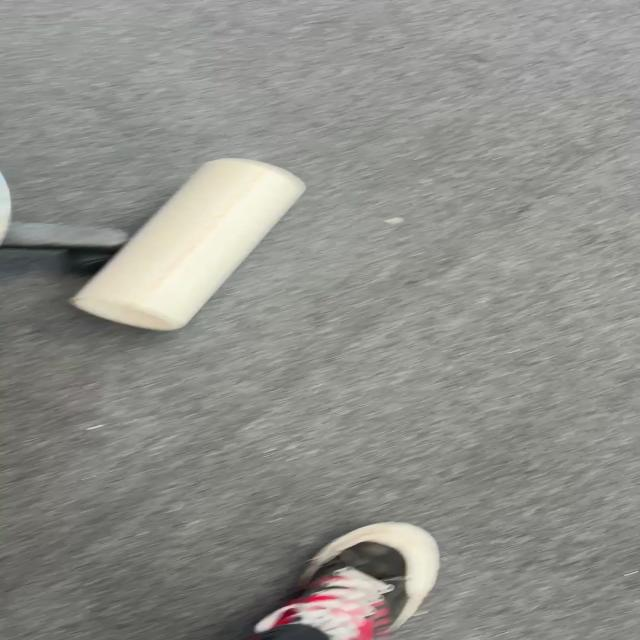Coral: (68, 156, 306, 332)
